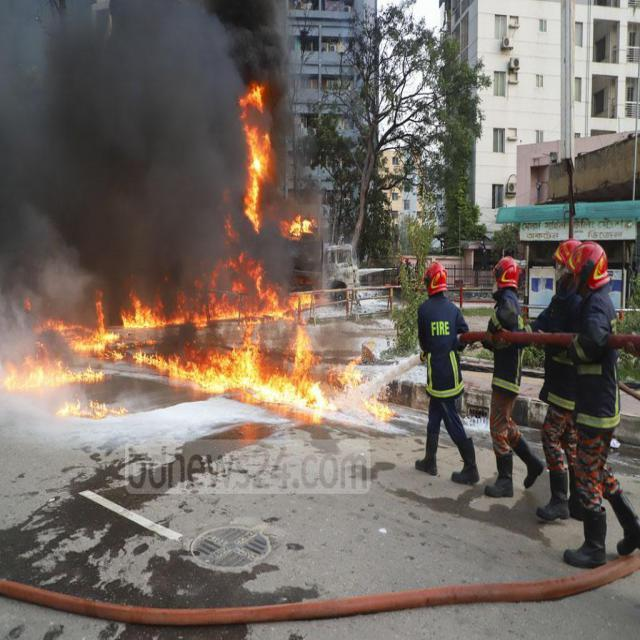Fire: (3, 90, 400, 430)
Smoke: (2, 3, 231, 266), (239, 2, 295, 82)
